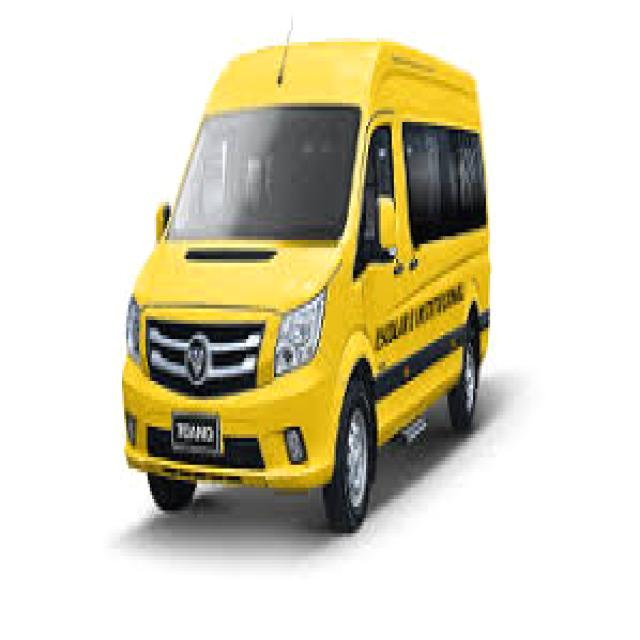BUS: (117, 36, 495, 540)
